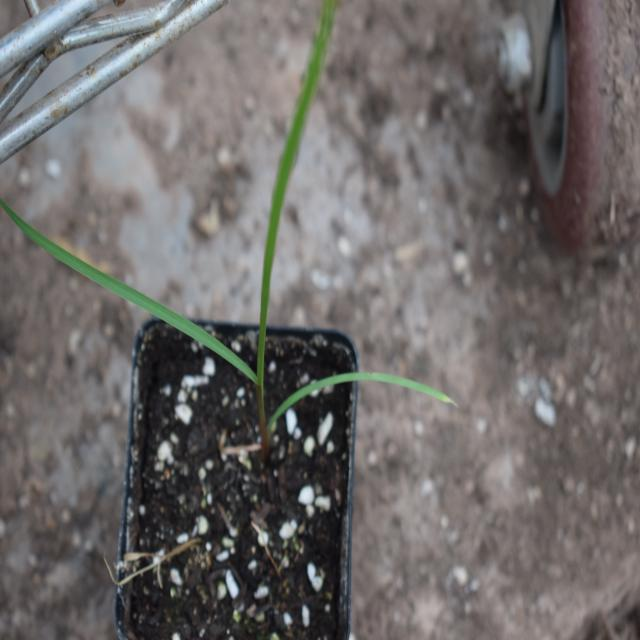green_foxtail: (67, 86, 393, 433)
